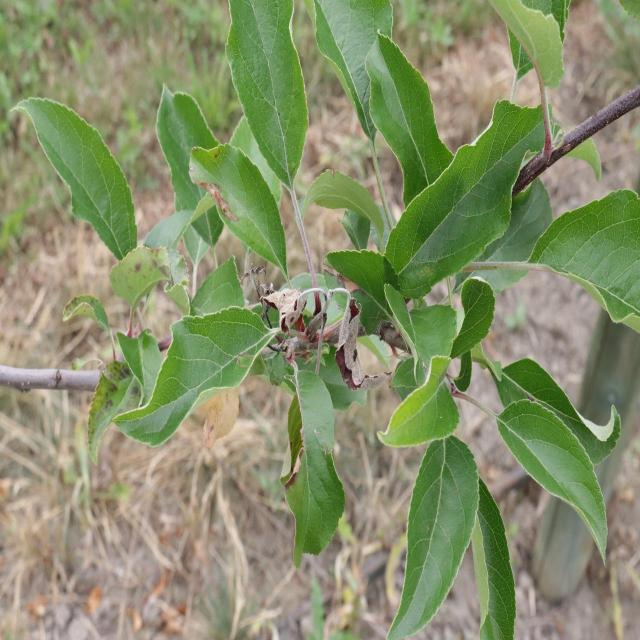-FireBlight-: (260, 282, 372, 387)
